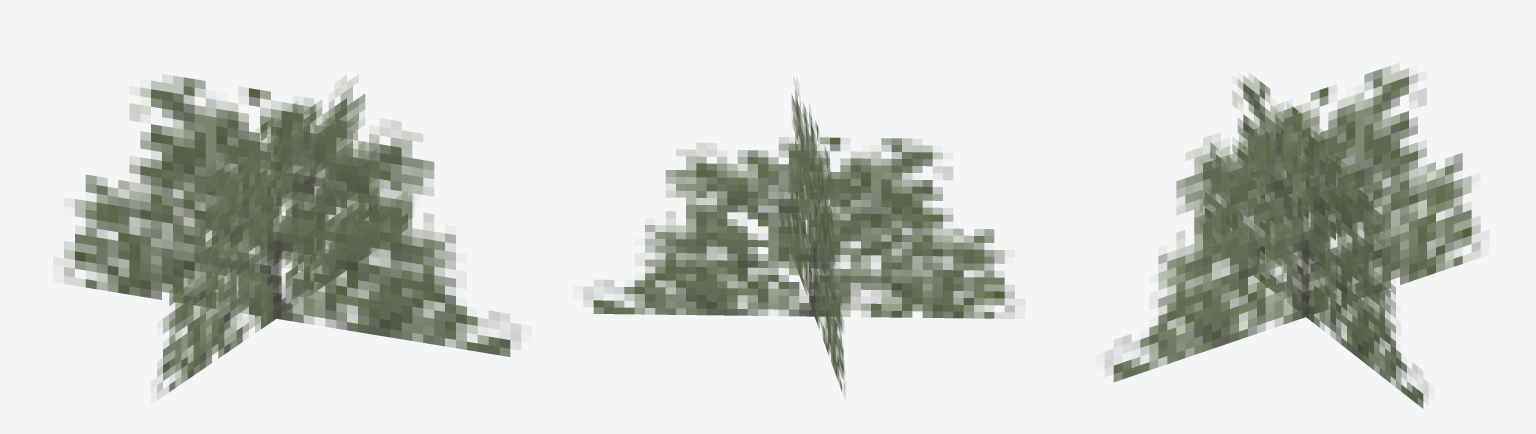
The model's file is tree-shrub.013_lev3.glb.
3 views of the same model, side by side, from view 1: azimuth 30°, elevation 25°; view 2: azimuth 150°, elevation 25°; view 3: azimuth 270°, elevation 25° (orthographic). The views are drawn at different scales.
Visible parts, largest first — view 1: tree-shrub.013_lev3; view 2: tree-shrub.013_lev3; view 3: tree-shrub.013_lev3.
Part boxes in pixels (bbox=[...]): tree-shrub.013_lev3: bbox=[64, 74, 520, 399]; tree-shrub.013_lev3: bbox=[583, 79, 1014, 397]; tree-shrub.013_lev3: bbox=[1105, 63, 1480, 408].
Bounding box in the file's own units: 6.17 × 3.11 × 5.47.
1 material, 1 textured.
